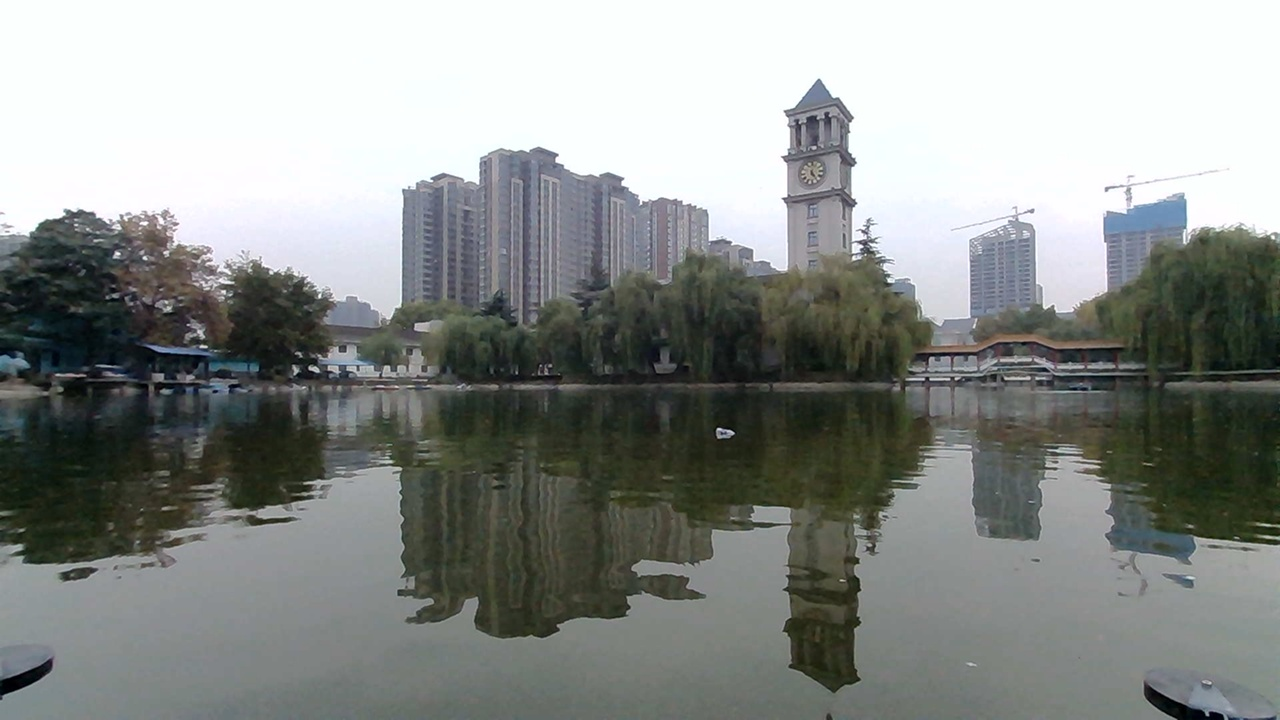bottle: (706, 415, 745, 445)
